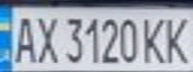0: (118, 15, 142, 64)
1: (81, 13, 103, 64)
2: (100, 13, 121, 64)
3: (60, 12, 84, 64)
A: (9, 11, 39, 64)
K: (160, 12, 193, 65), (139, 13, 169, 64)
X: (33, 11, 60, 64)
